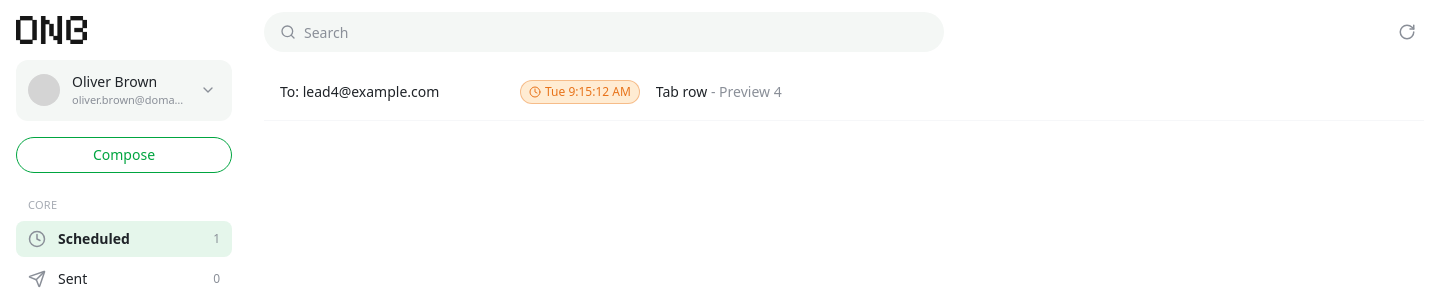
Test case: search › the clear button (and emptying the box) goes back to the tab list
Type "olive" into the search field.
click(604, 32); type("olive")  # box [264, 12, 944, 52]
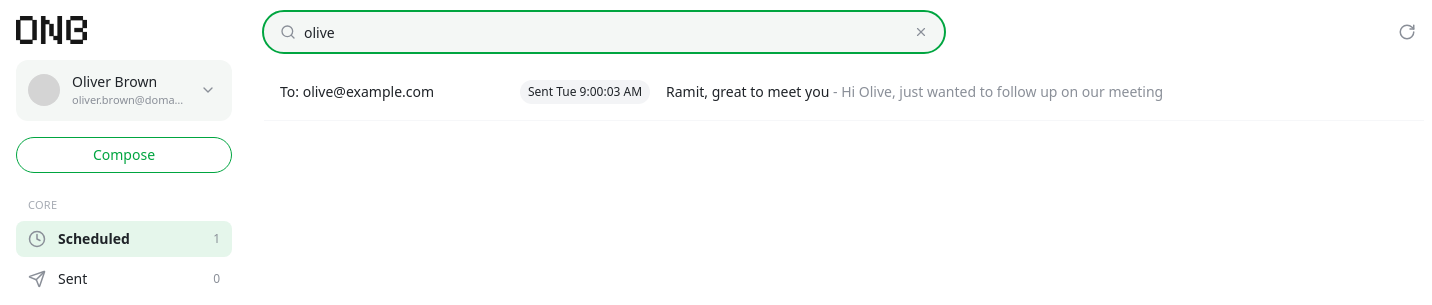
Expected: the text "Ramit, great to meet you" is shown, [666, 82, 829, 101]
Click the button named "Clear search".
click(921, 32)  # box [910, 21, 932, 43]
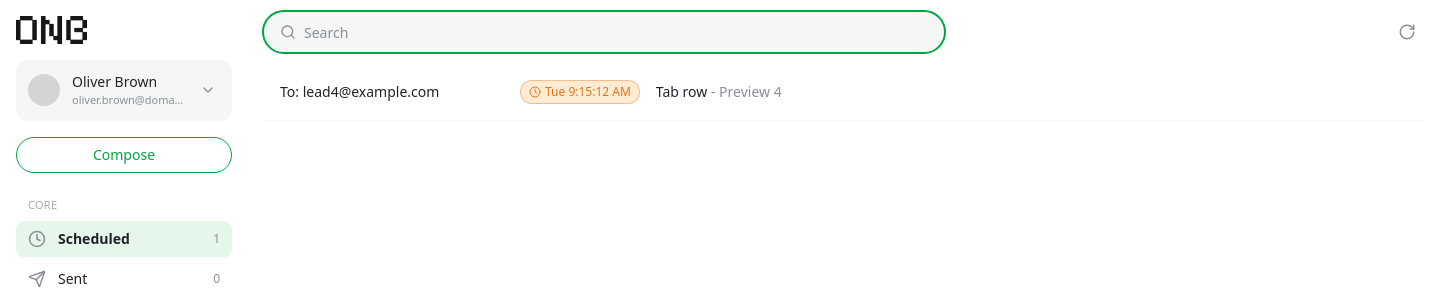
Expected: the text "Tab row" is shown, [656, 82, 707, 101]
Type "olive" into the search field with placeholder "Search".
click(604, 32); type("olive")  # box [264, 12, 944, 52]
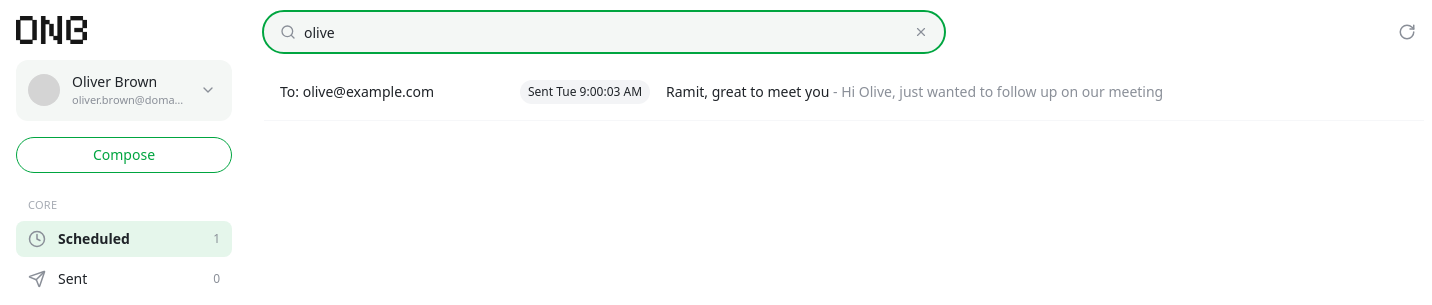
Expected: the text "Ramit, great to meet you" is shown, [666, 82, 829, 101]
Clear the search field named "Search emails" at (604, 32), box [264, 12, 944, 52]
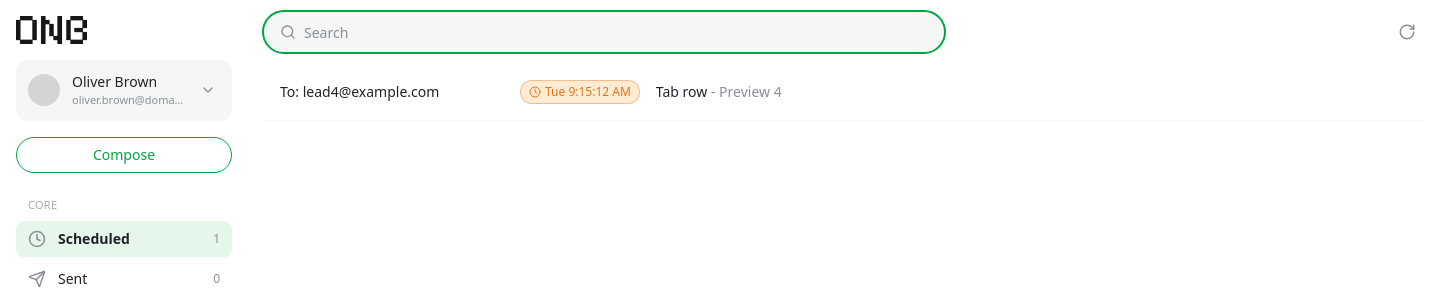
Expected: the text "Tab row" is shown, [656, 82, 707, 101]
